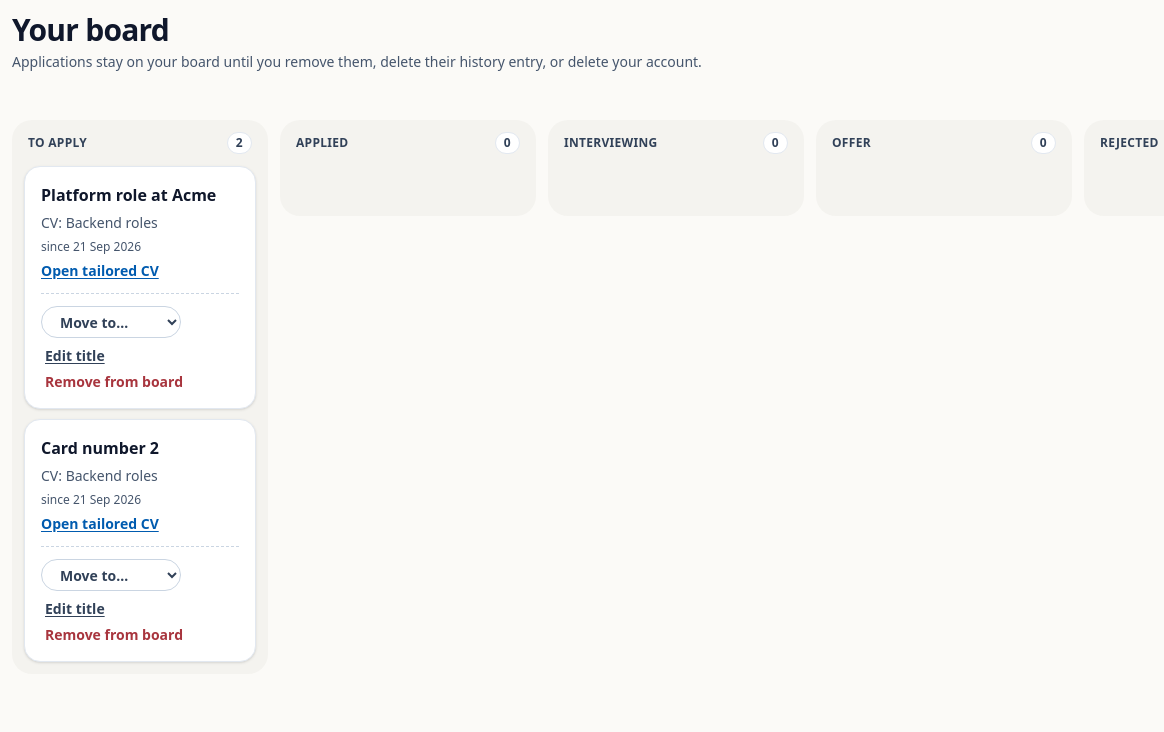
Test: The board lives under the account (AC-39) › keys every mutation under ['auth', 'account', userId, 'tracking', …]
This screenshot has width=1164, height=732.
Expected: the text "Platform role at Acme" is shown, [41,183,239,207]
Select "Applied" in the dropdown named "move to" below "Platform role at Acme". click: x=111, y=322
box: [41,306,181,338]
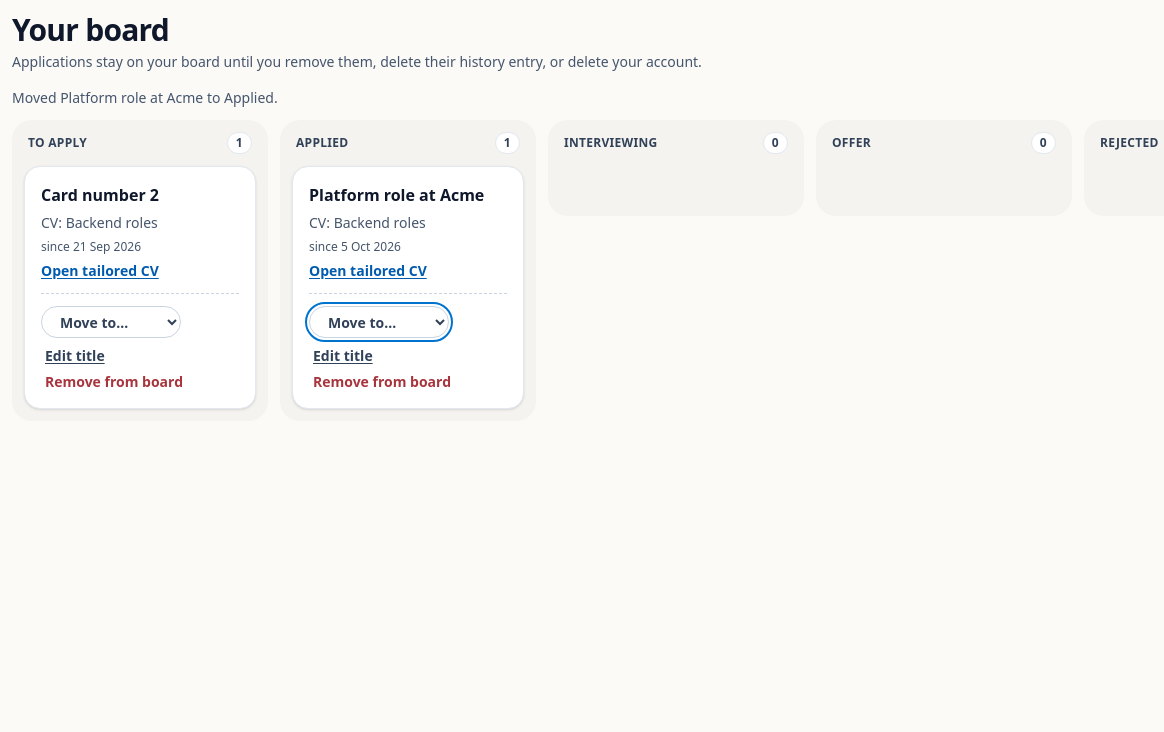
Click the button "Remove from board" below "Card number 2". click: x=114, y=382
box: [41,372,187,392]
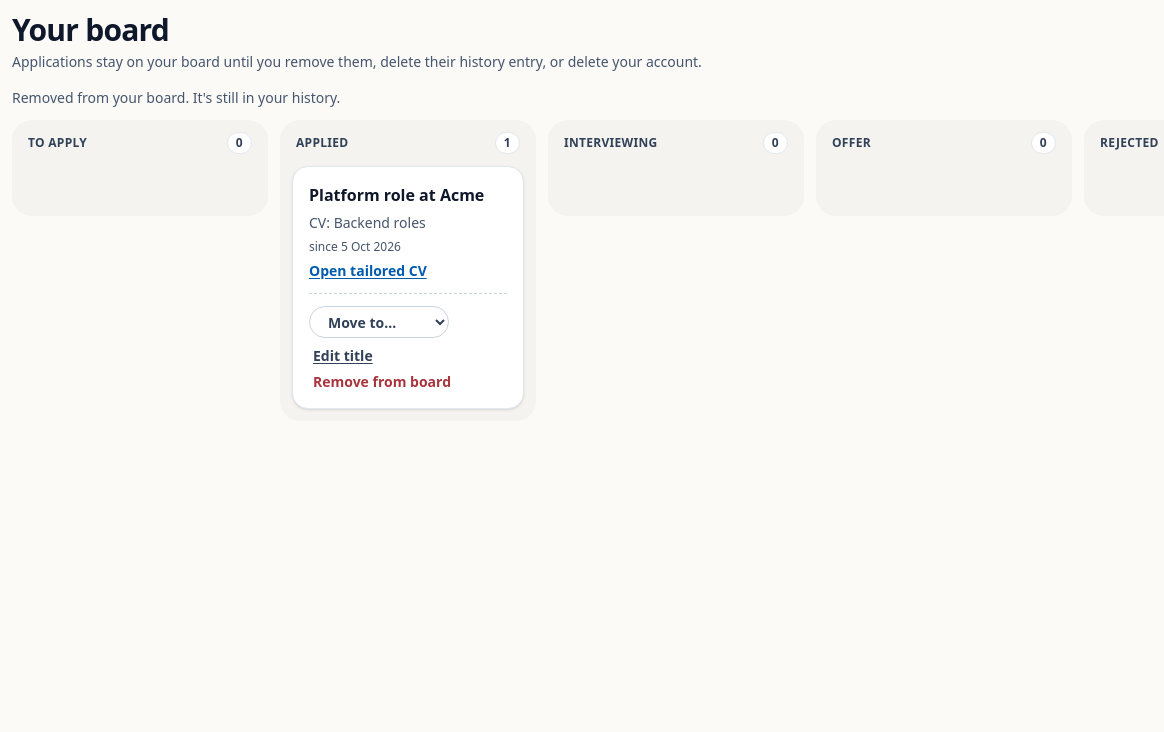
Expected: the text "Removed from your board. It's still in your history." is shown, [12,88,340,107]
